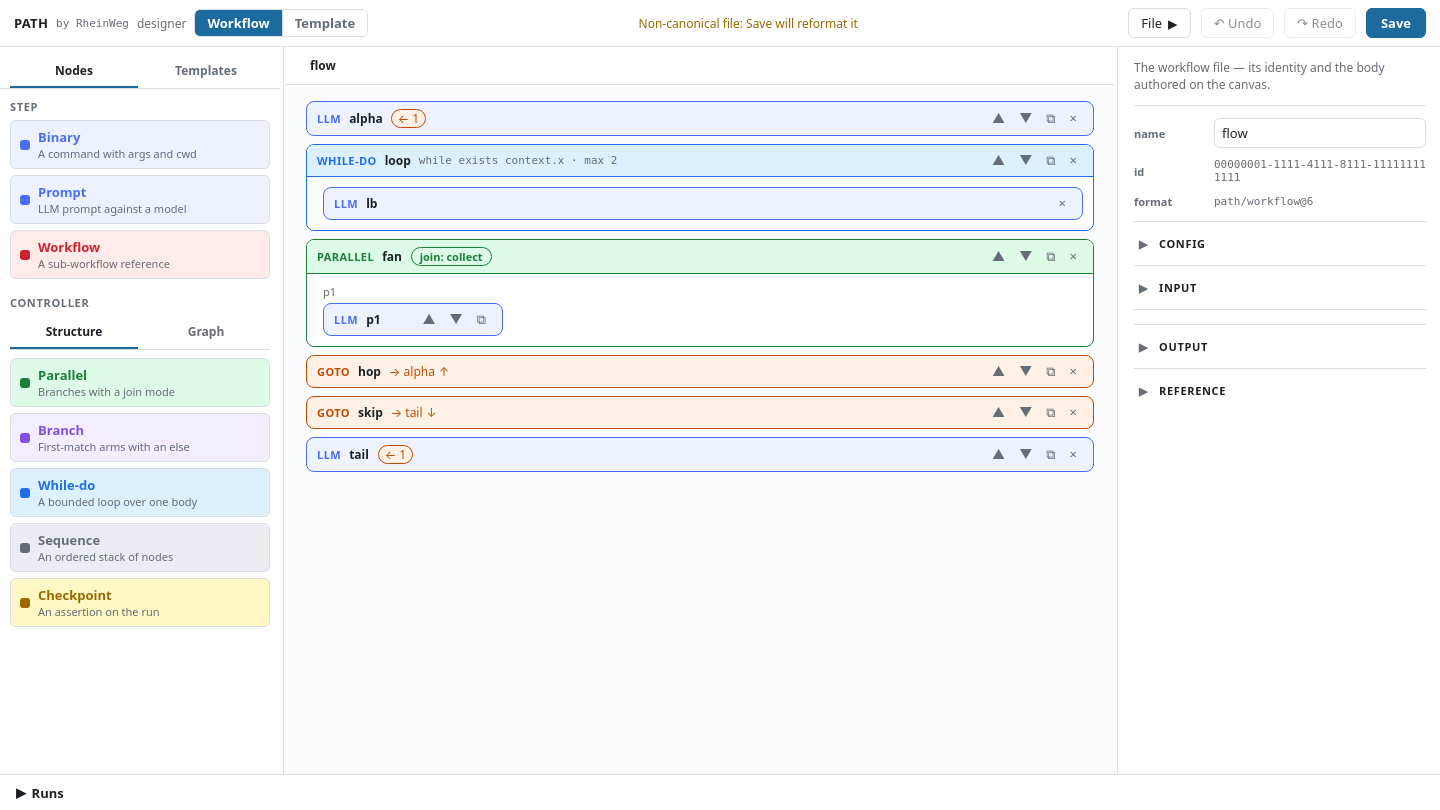
it: G-D-06 the target picker › lists first-level nodes in file order, self excluded, each marked forward or backward
Expected: the text "alpha" is shown, [349,110,383,127]
Click the text "hop" at (700, 372), box [306,355,1094,388]
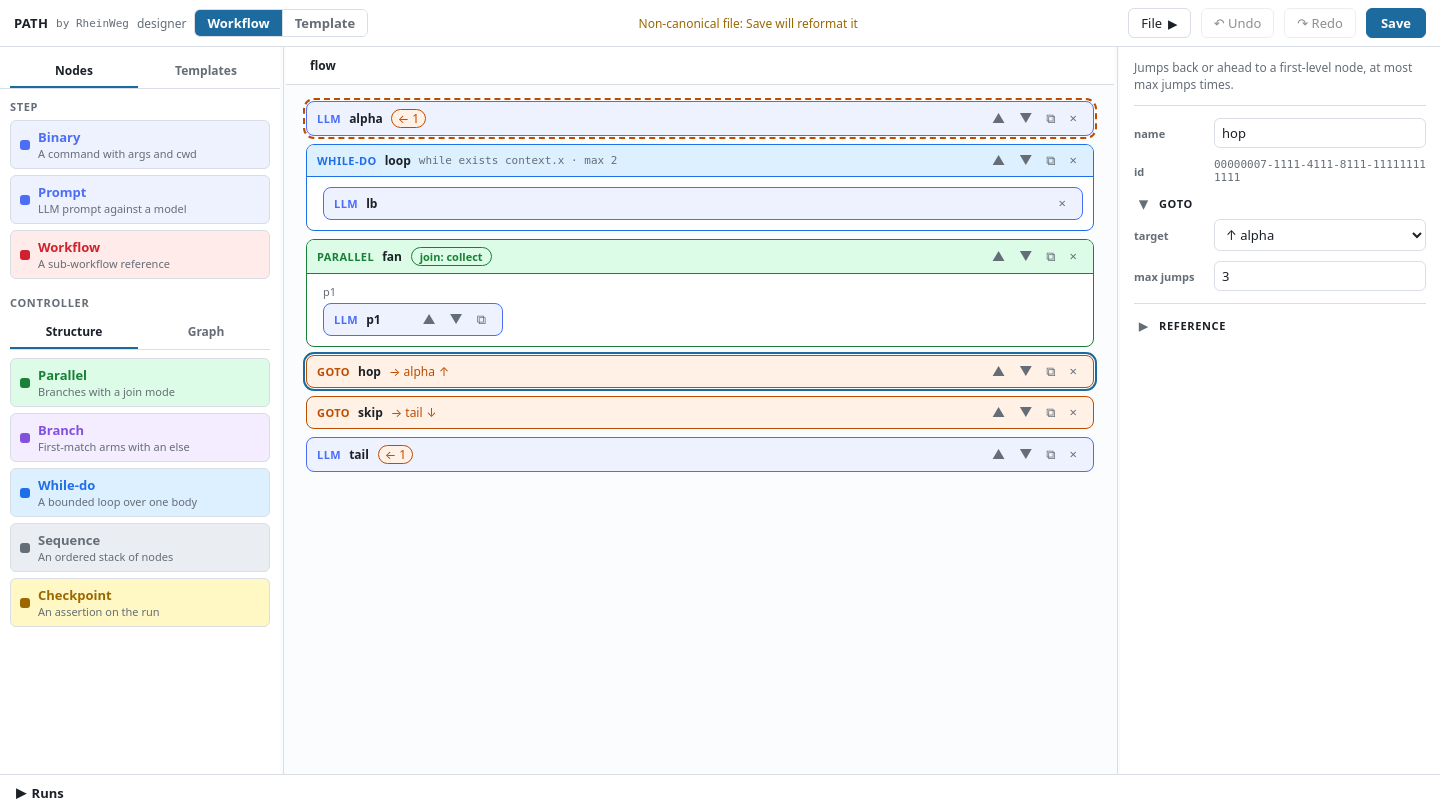
Expected: the dropdown labelled "target" shows "↑ alpha"
Select "↓ tail" in the dropdown labelled "target" at (1320, 235), box [1214,219,1426,251]
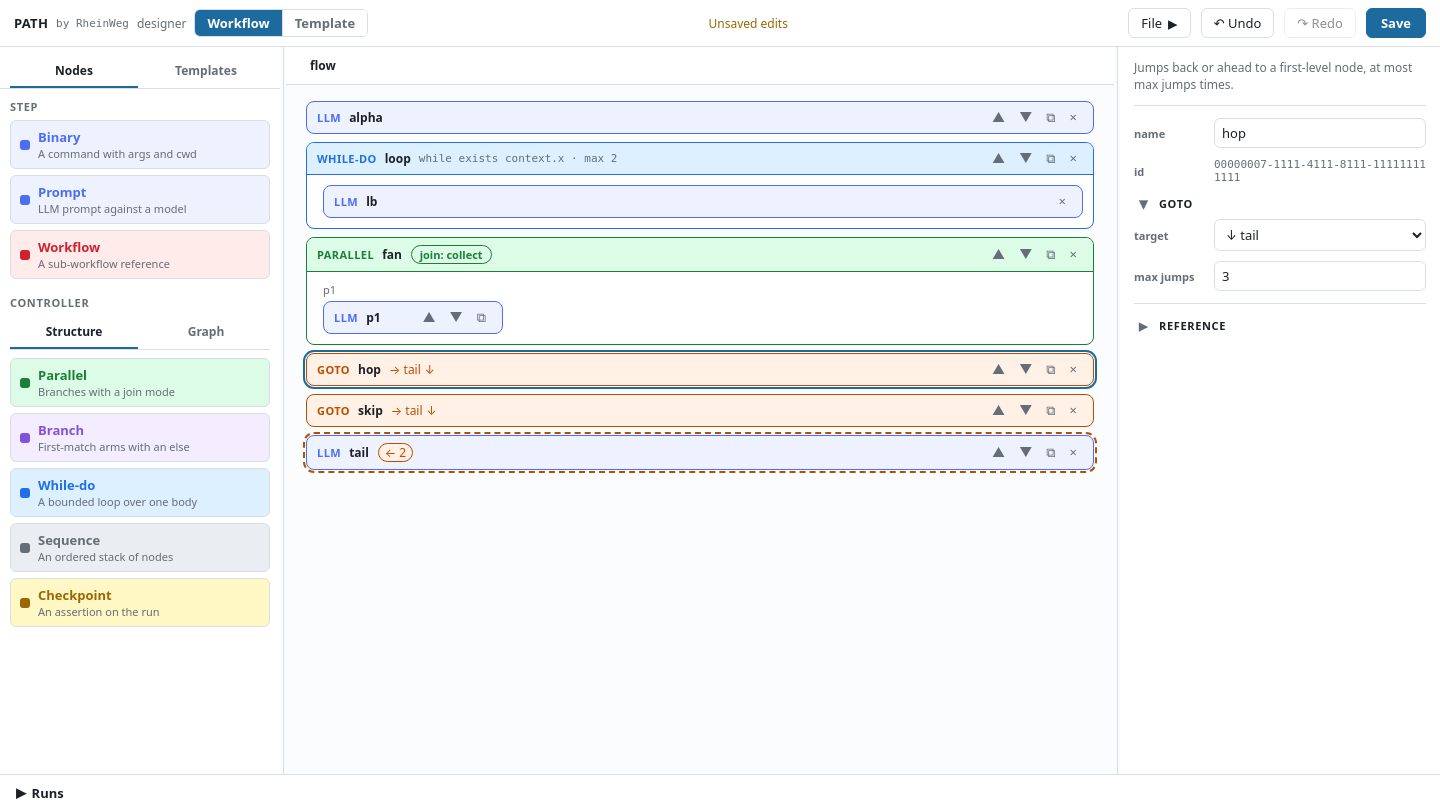
Expected: the text "→ tail" next to "hop" is shown, [389,361,421,378]
